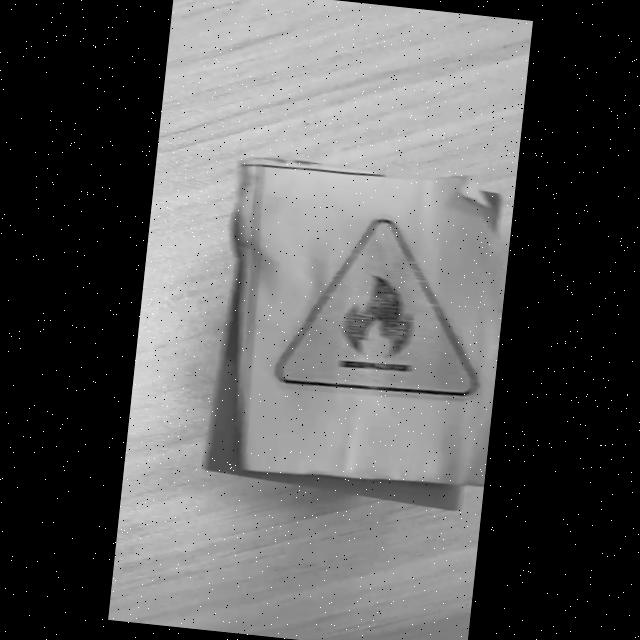Fire: (275, 218, 478, 397)
